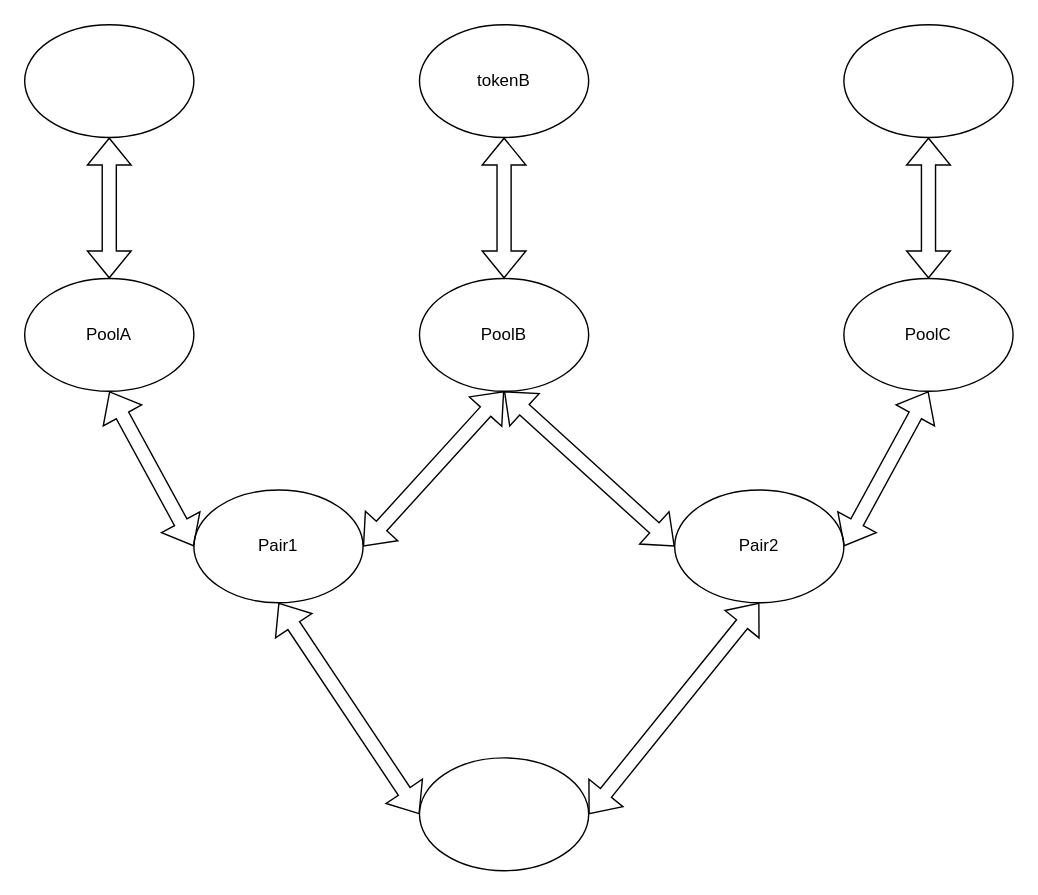
Image size: 1038x895. Some labels were removed from this diagram. Each missing label, with the box of its shape:
AMM: (418, 756, 589, 871)
tokenA: (23, 23, 194, 137)
tokenC: (842, 23, 1013, 137)
